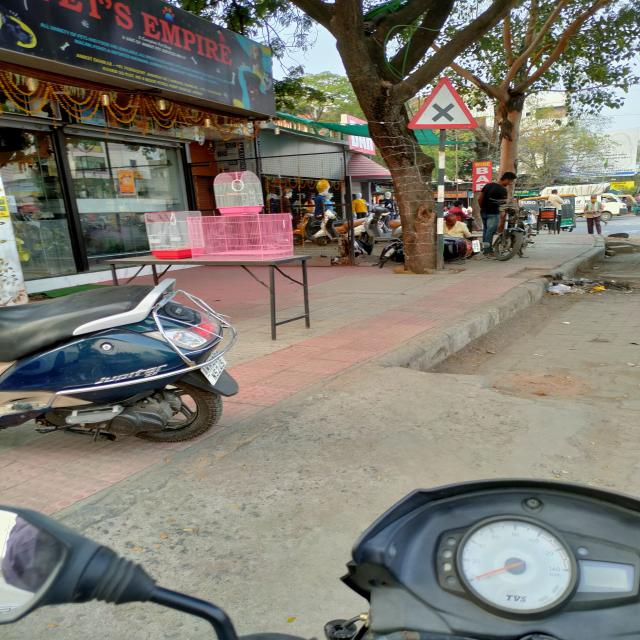cross_road: (406, 77, 478, 129)
